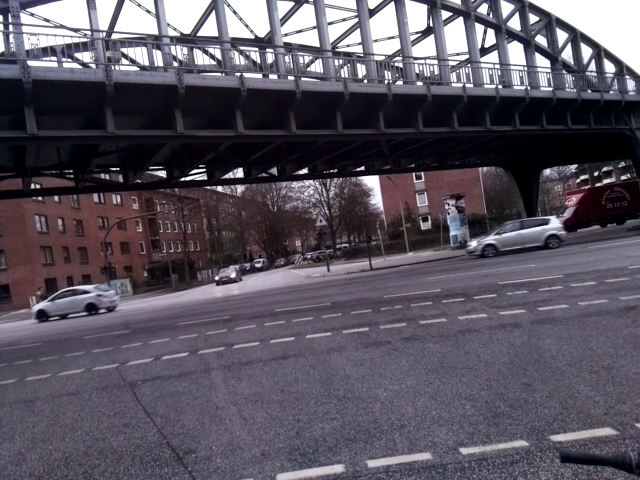car: (460, 209, 571, 261), (30, 277, 127, 330)
